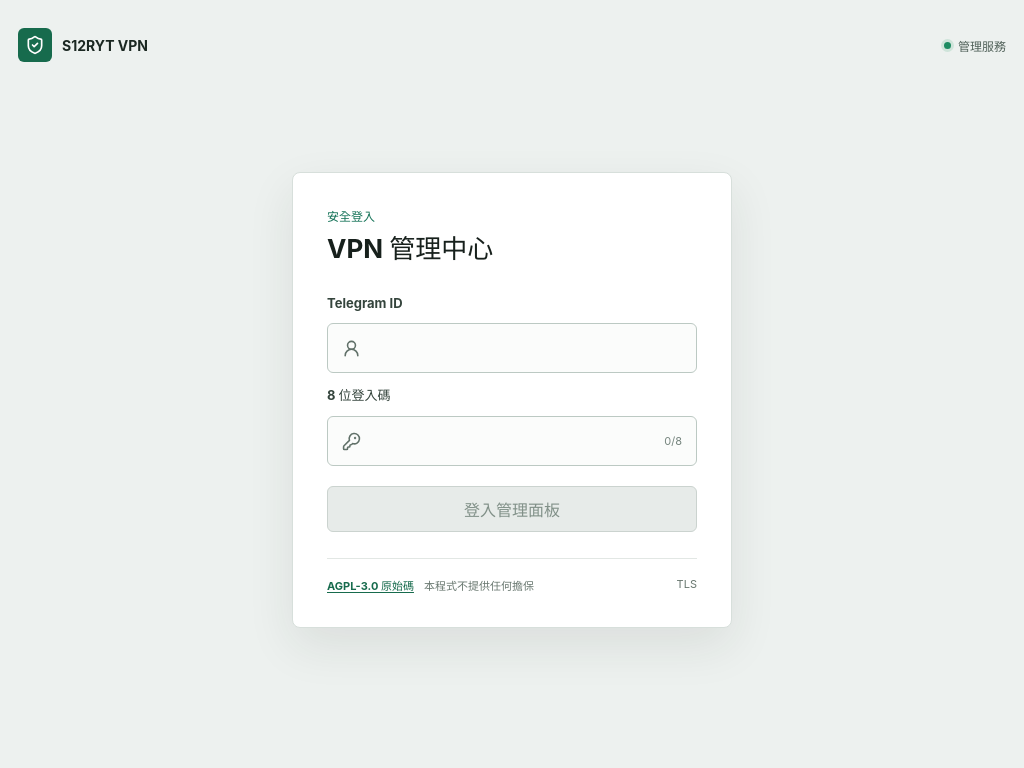
Scenario: 管理面板登入 › 以 cookie session 提交精確登入契約且不顯示伺服器錯誤細節
This screenshot has width=1024, height=768.
In the field labelled "Telegram ID": (527, 348) [372,325,682,371], type "12345"
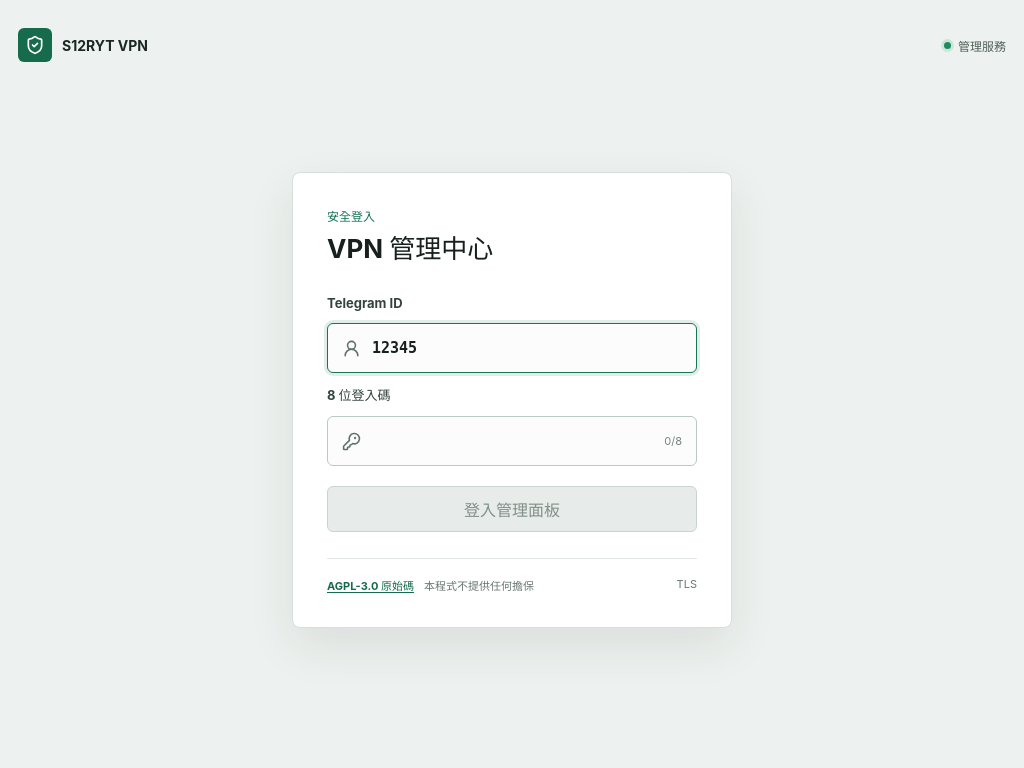
In the field labelled "8 位登入碼": (513, 441) [372,418,654,464], type "Ab12Cd34"
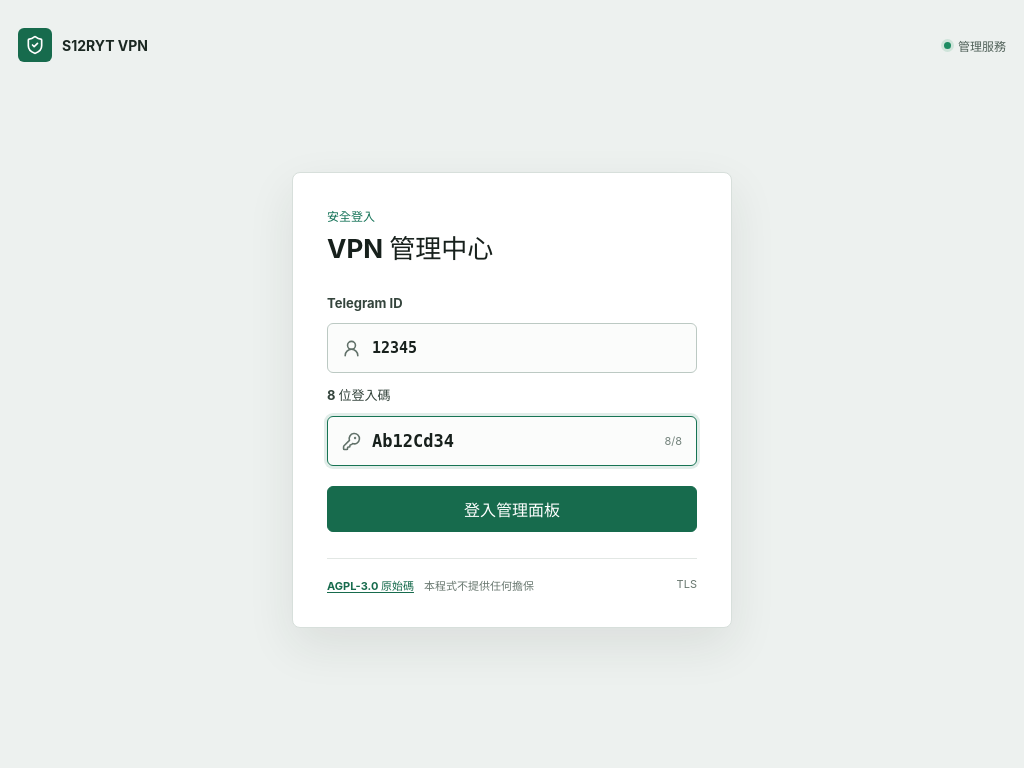
Click the button "登入管理面板": (512, 509) [327,486,697,532]
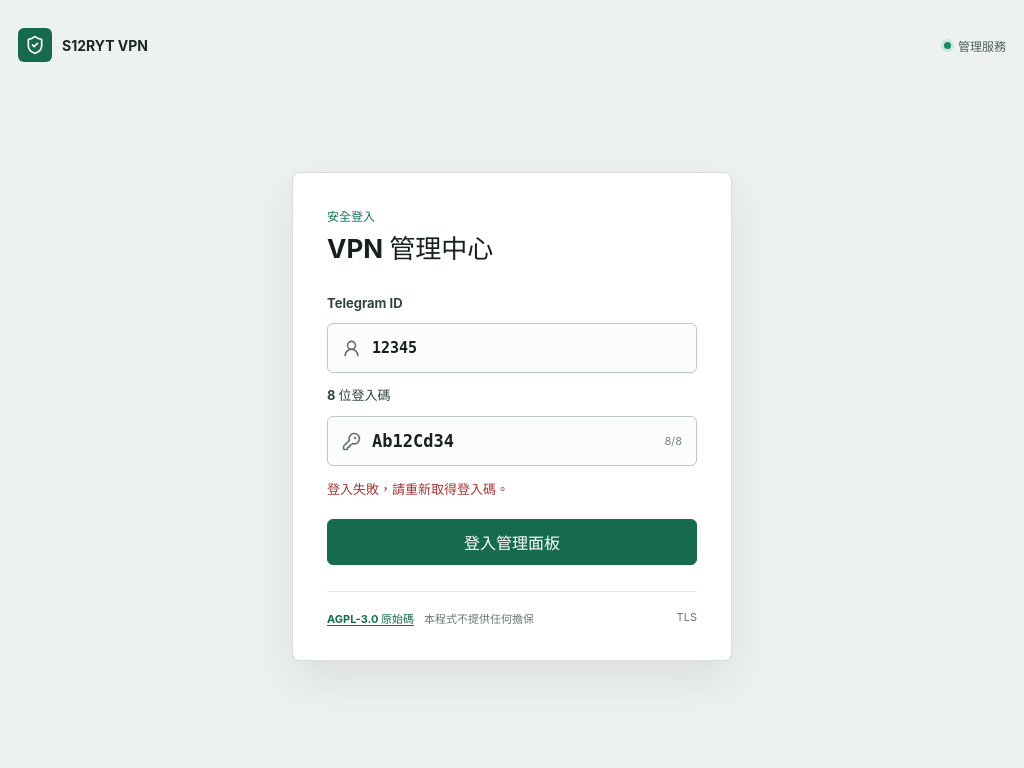
Now the message reads "登入失敗，請重新取得登入碼。", box [327,481,509,497]
